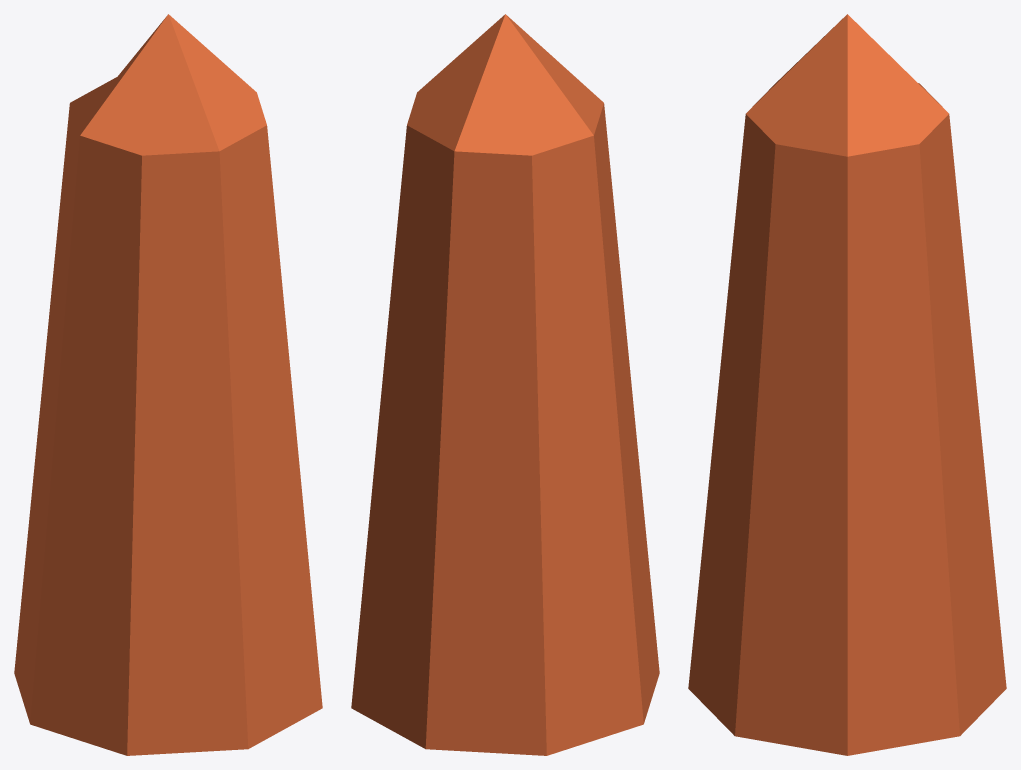
Rendered from ammo.fbx.
3 views of the same model, side by side, from view 1: azimuth 30°, elevation 25°; view 2: azimuth 150°, elevation 25°; view 3: azimuth 270°, elevation 25° (orthographic).
Parts seen in each view (by area): view 1: Cube.001; view 2: Cube.001; view 3: Cube.001.
Boxes of the visible parts, x1,y1,x2,y2 form: Cube.001: [14, 14, 322, 755]; Cube.001: [351, 14, 659, 755]; Cube.001: [688, 14, 1006, 755].
Size of the model in its own units: 1.32 by 3.1 by 1.32.
